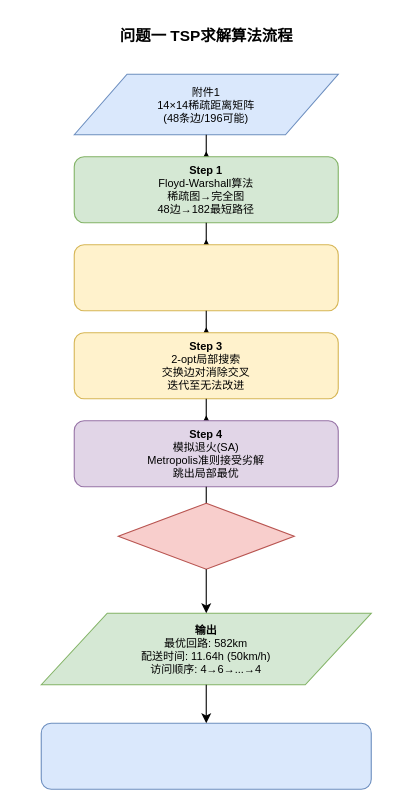
Some shapes in this 411 by 809 pixel diagram are drawn without their labels. Here are the shapes that lost their labels. From the top down, the centre of each, then its label:
[205,277]: Step 2 多起点最近邻(NN) 14个起点分别出发 取最短回路
[205,535]: NN+2opt vs SA 谁更优?
[205,755]: 验证 ✓ 14个地点全覆盖 ✓ 回路闭合 ✓ 582km匹配标准答案(误差<1%)
